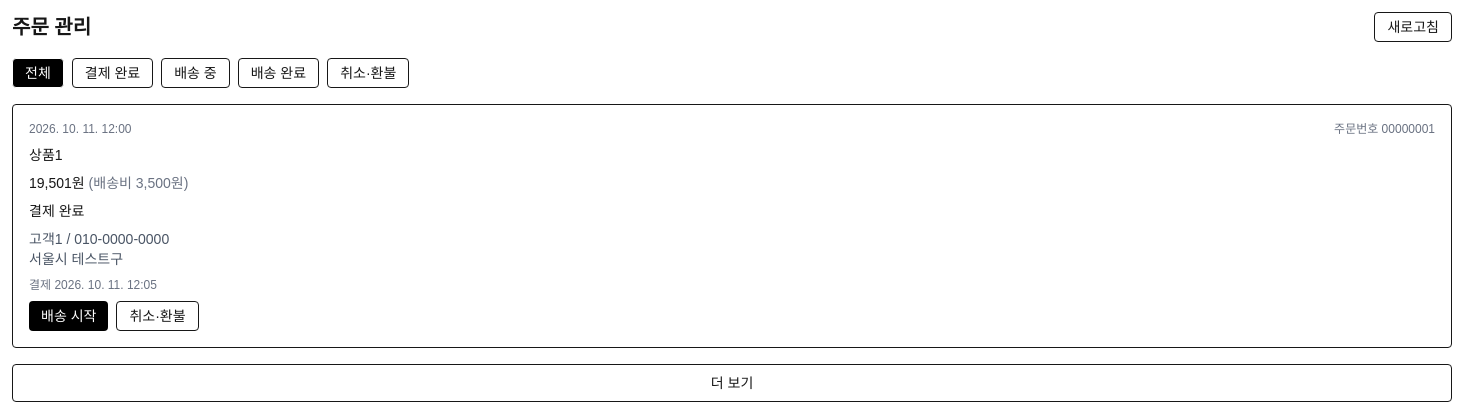
Test: 상태 탭 › 성공: 탭을 바꾸기 전에 시작한 더 보기 응답은 새 목록에 섞이지 않는다
This screenshot has width=1464, height=419.
Click the button "더 보기".
click(732, 383)  # box [12, 364, 1452, 402]
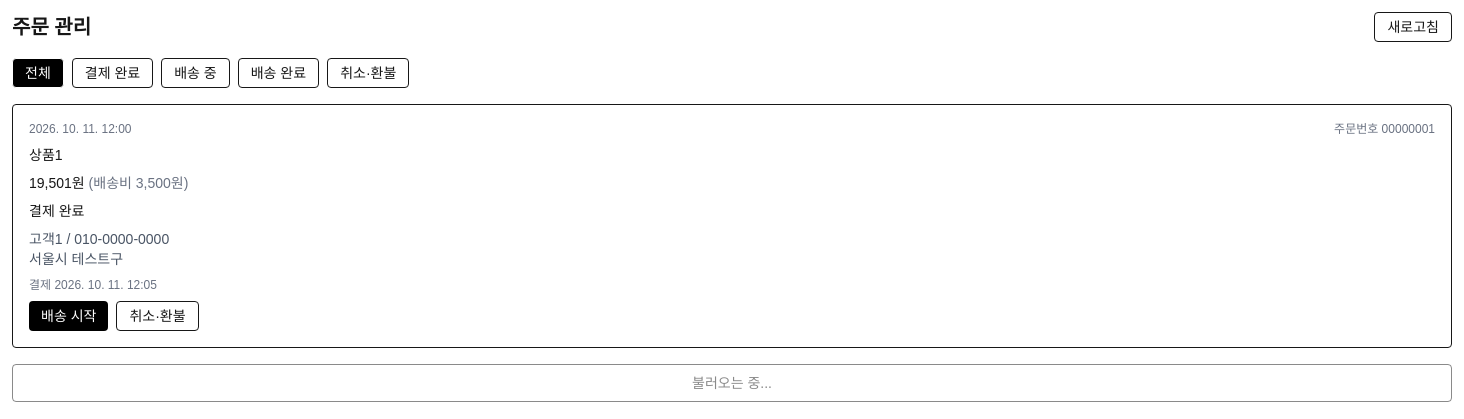
Click the button "결제 완료".
click(112, 73)  # box [72, 58, 153, 88]
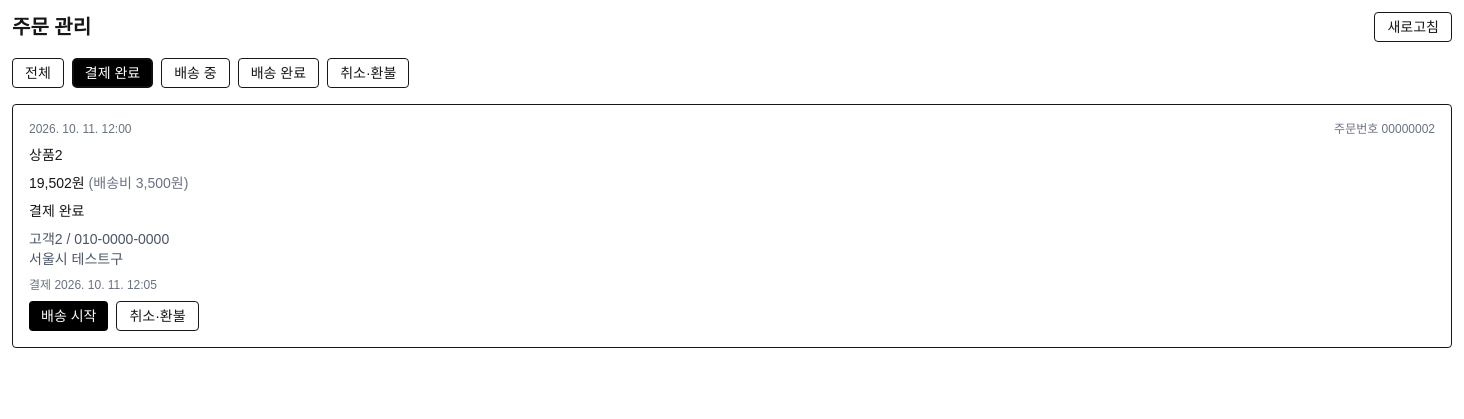
Now the text "상품2" is shown, box [29, 147, 62, 163]
